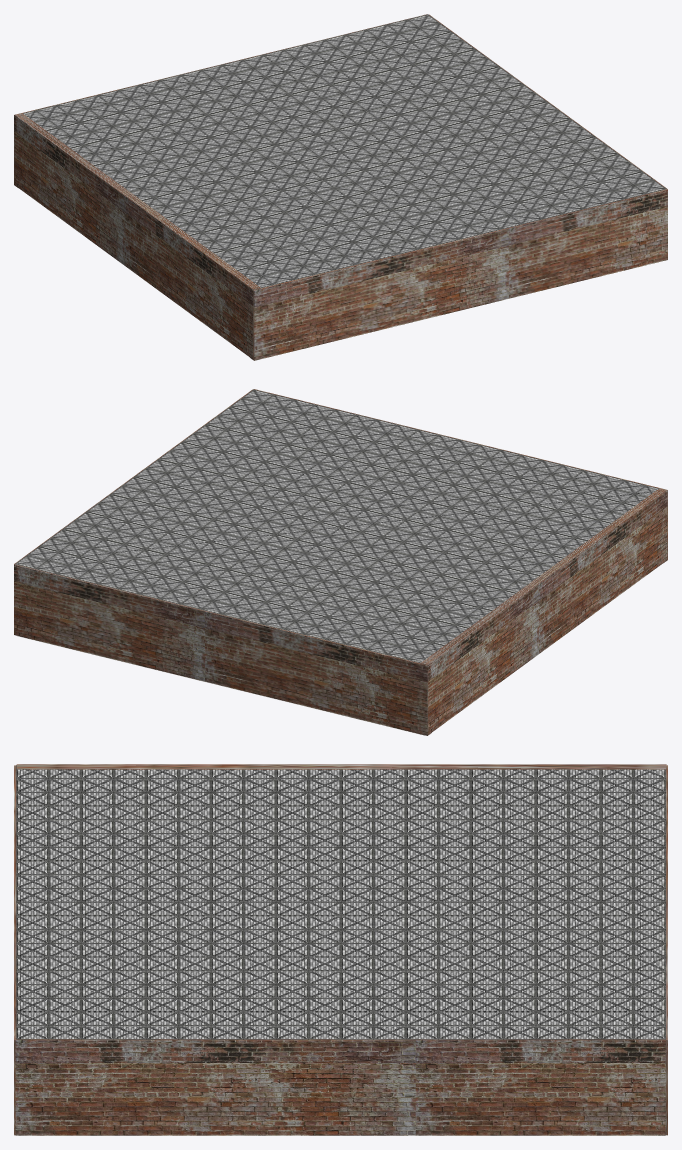
The model's file is level1.gltf.
The picture shows the model from 3 angles, top to bottom: view 1: azimuth 30°, elevation 25°; view 2: azimuth 150°, elevation 25°; view 3: azimuth 270°, elevation 25°; orthographic projection. The views are drawn at different scales.
Visible parts, largest first — view 1: ceiling, wall_front, wall_left, wall_back; view 2: ceiling, wall_back, wall_left, wall_front; view 3: ceiling, wall_right, wall_left, wall_front, wall_back.
Boxes of the visible parts, x1,y1,x2,y2 form: ceiling: [23, 14, 666, 289]; wall_front: [250, 189, 667, 360]; wall_left: [14, 113, 260, 359]; wall_back: [14, 14, 427, 187]; ceiling: [15, 389, 658, 662]; wall_back: [14, 564, 431, 735]; wall_left: [420, 488, 667, 734]; wall_front: [254, 389, 667, 562]; ceiling: [16, 765, 665, 1039]; wall_right: [15, 1035, 665, 1135]; wall_left: [16, 764, 666, 769]; wall_front: [14, 765, 16, 1135]; wall_back: [665, 765, 667, 1135].
Bounding box in the file's own units: 21.79 × 5.02 × 21.86.
11 materials, 11 textured.
